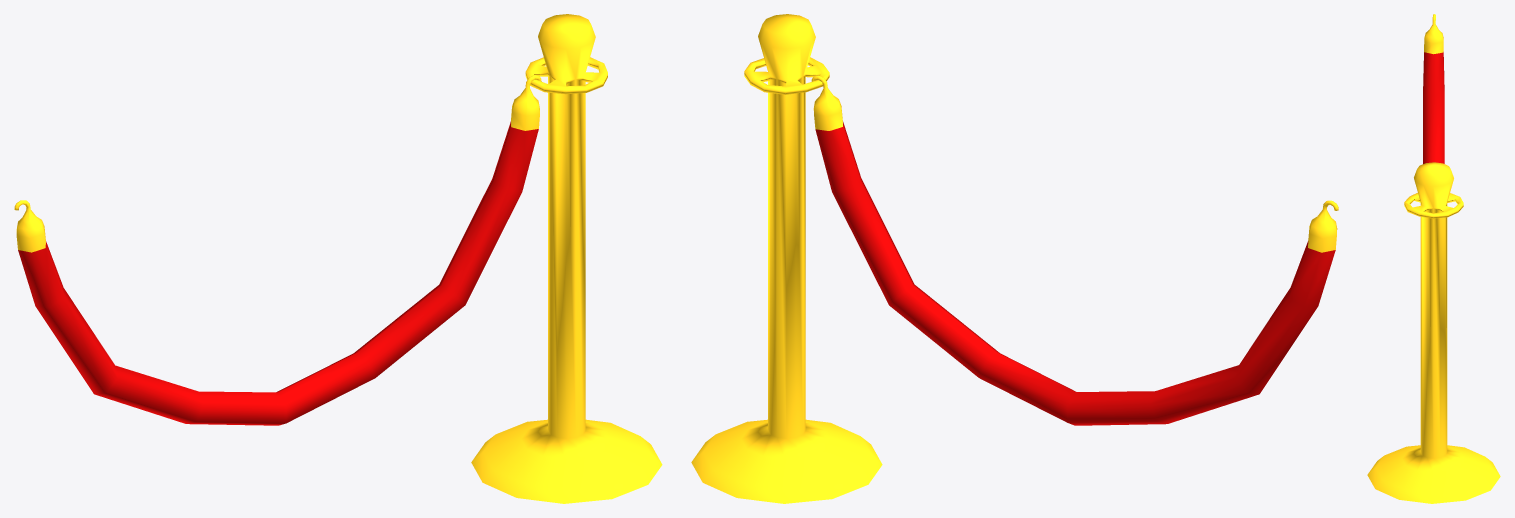
File: VipRopeGoldShortAddon.glb
3 views of the same model, side by side, from view 1: azimuth 30°, elevation 25°; view 2: azimuth 150°, elevation 25°; view 3: azimuth 270°, elevation 25° (orthographic). The views are drawn at different scales.
Parts seen in each view (by area): view 1: VipRopeGoldShortAddon; view 2: VipRopeGoldShortAddon; view 3: VipRopeGoldShortAddon.
Part boxes in pixels (left/top/right/bottom): VipRopeGoldShortAddon: left=14, top=14, right=662, bottom=503; VipRopeGoldShortAddon: left=691, top=14, right=1338, bottom=503; VipRopeGoldShortAddon: left=1367, top=14, right=1500, bottom=503.
Size of the model in its own units: 1.76 by 1.17 by 0.4581.
Materials: 2 (2 with a texture image).
